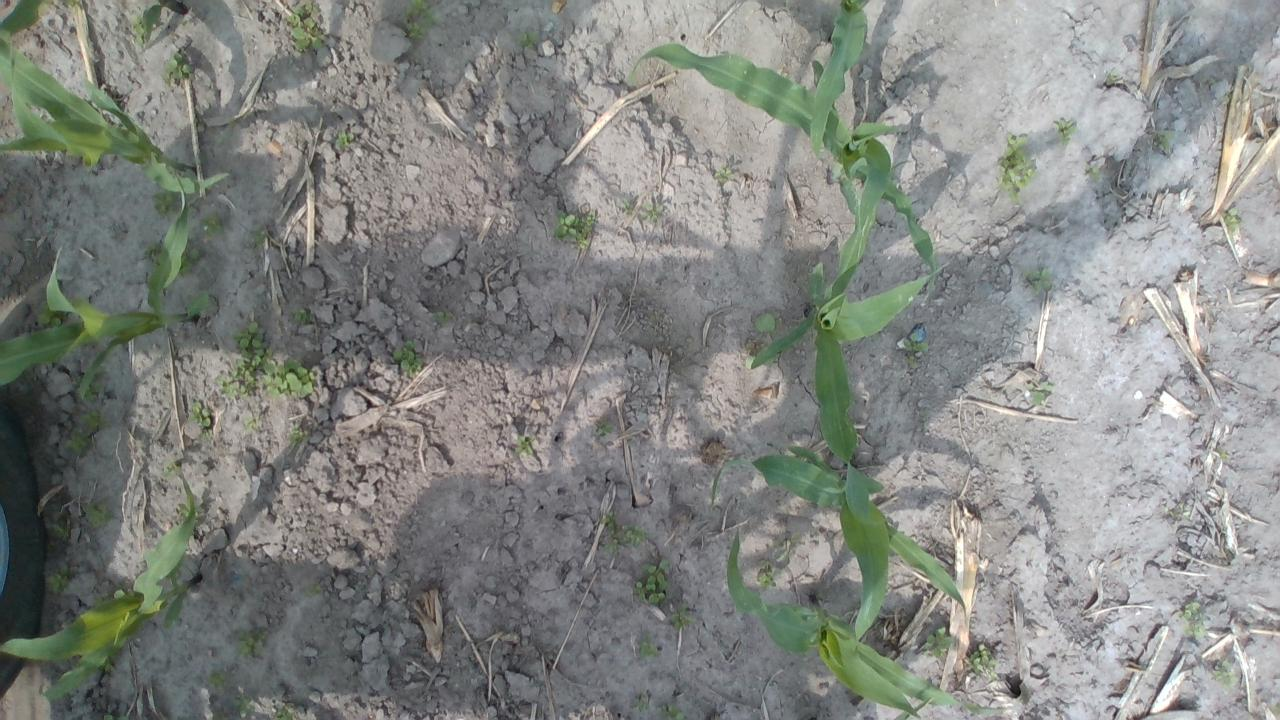Maize: (625, 41, 938, 300), (748, 178, 952, 532), (726, 528, 1016, 720), (708, 443, 969, 654), (0, 170, 210, 406), (0, 474, 202, 700), (0, 30, 233, 195), (806, 0, 872, 163), (0, 0, 188, 42)
Weeds: (996, 133, 1038, 202), (260, 356, 316, 400), (230, 320, 272, 371), (287, 1, 326, 50), (215, 358, 257, 400), (632, 559, 670, 605), (554, 210, 596, 249), (400, 0, 438, 43), (390, 340, 424, 376), (162, 50, 192, 88), (35, 294, 67, 329), (920, 625, 953, 657), (86, 361, 110, 403), (967, 643, 996, 675), (176, 241, 201, 277), (79, 408, 113, 434), (902, 334, 928, 368), (1182, 601, 1204, 641), (237, 628, 266, 658), (82, 502, 114, 528), (1022, 381, 1054, 407), (152, 188, 180, 217), (94, 586, 140, 603), (188, 400, 212, 432), (63, 431, 92, 457), (620, 522, 649, 548), (1213, 661, 1239, 690), (603, 511, 620, 553), (1054, 118, 1080, 145), (175, 496, 200, 524), (46, 564, 70, 593), (1023, 266, 1052, 290), (757, 559, 778, 592), (200, 210, 226, 236), (754, 310, 780, 336), (671, 603, 696, 630), (232, 692, 256, 718), (1222, 207, 1242, 238), (130, 13, 146, 50), (638, 630, 658, 659), (639, 204, 664, 222), (1153, 130, 1173, 152), (142, 240, 160, 264), (334, 129, 354, 150), (774, 536, 790, 562), (292, 304, 315, 322), (272, 703, 296, 720), (661, 704, 686, 720), (514, 435, 535, 454), (250, 229, 267, 252), (206, 668, 225, 688), (713, 166, 732, 185), (162, 459, 178, 480), (518, 31, 536, 49), (1087, 164, 1103, 184), (596, 420, 614, 437), (286, 428, 302, 447), (304, 584, 322, 598), (242, 415, 258, 429), (54, 524, 69, 538), (432, 310, 449, 322), (104, 712, 128, 720), (634, 700, 649, 712), (1106, 70, 1118, 84), (1216, 448, 1228, 460), (620, 198, 632, 209), (1222, 90, 1232, 103), (756, 342, 768, 352)
